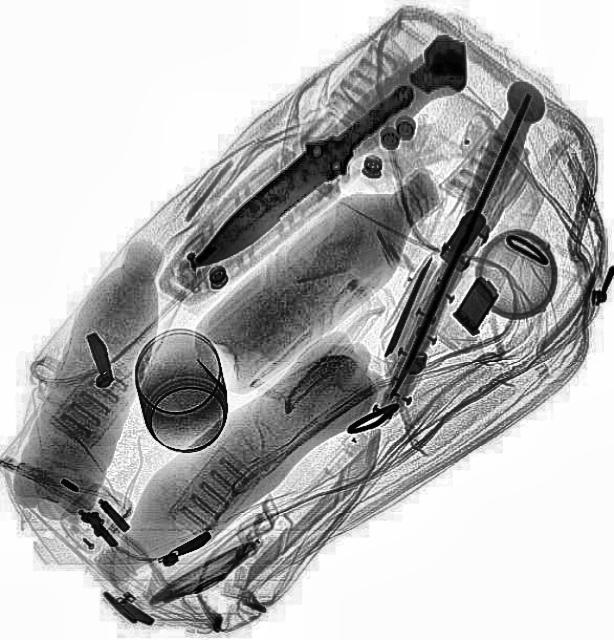Knife: (173, 69, 429, 284), (378, 89, 540, 404)
